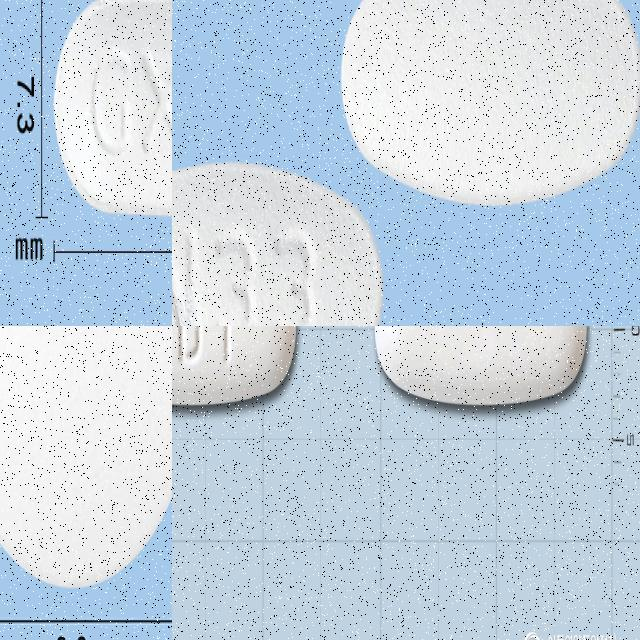Moxiclen Tab: (340, 0, 640, 205), (172, 160, 381, 326)
Samsung Clarithromycin Tab: (0, 326, 172, 585)
Seoul Cefixime Cap: (374, 326, 587, 406), (172, 326, 298, 407)
Vancozin Cap: (53, 0, 172, 215)
